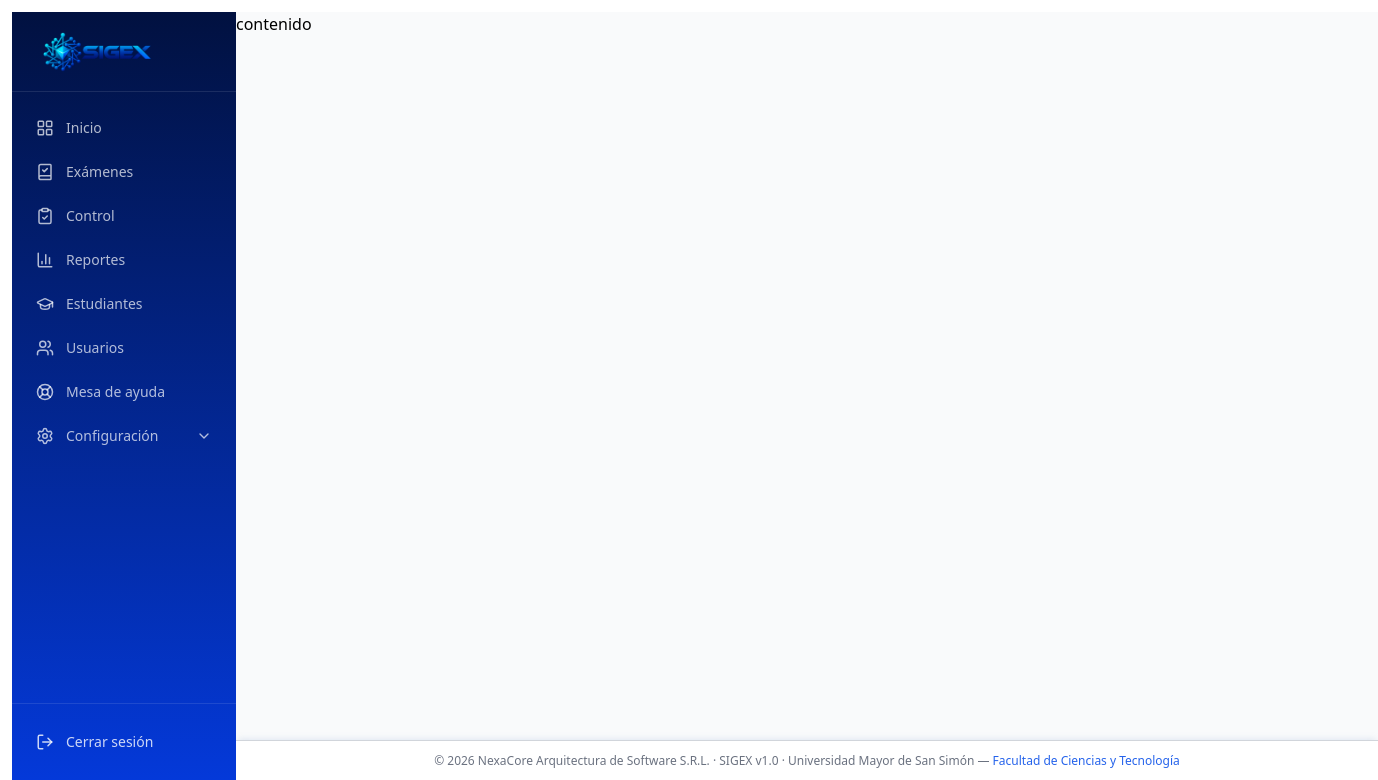
Test: el menú lateral se contrae a solo íconos y lo recuerda
The image size is (1378, 780).
Later steps or results of the test are not shown.
Click the button named "Contraer menú" at (124, 52), box [12, 12, 236, 92]
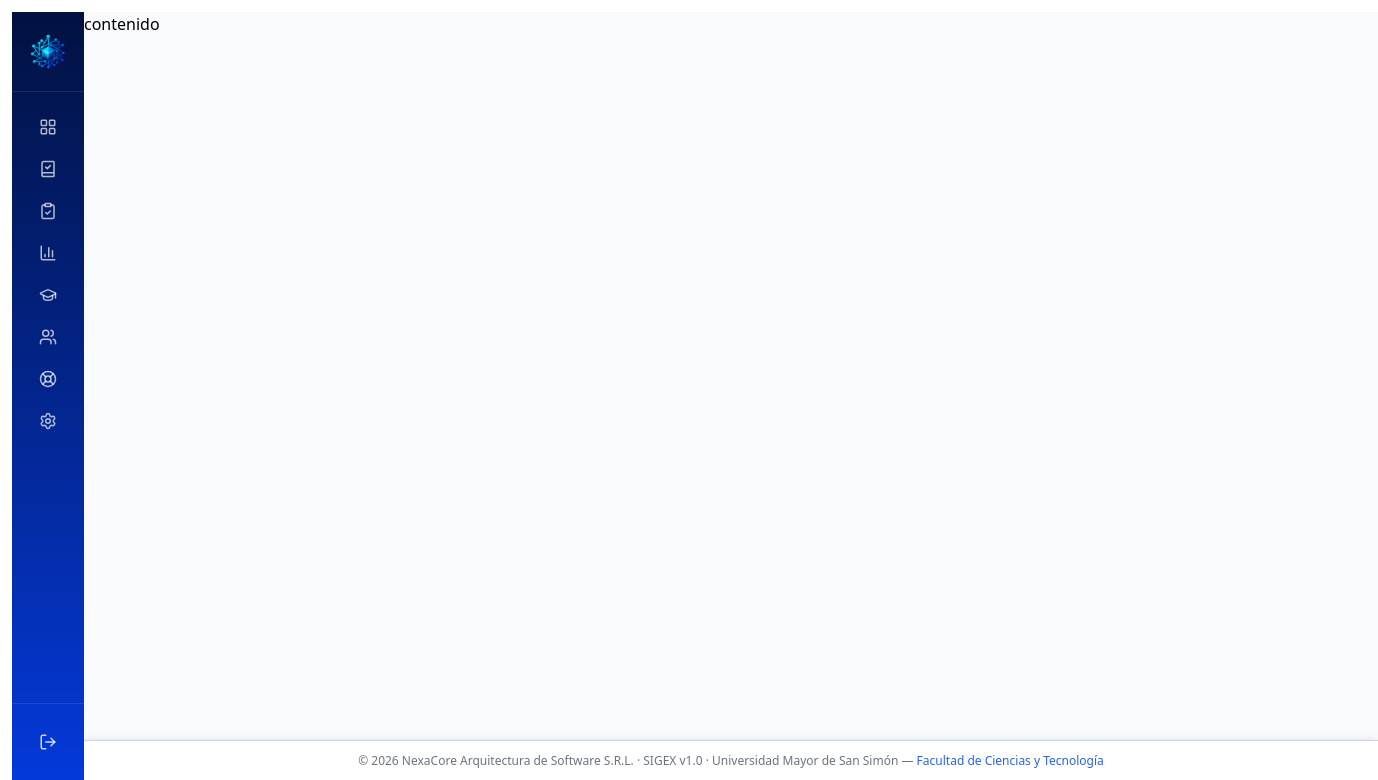
Check: the button named "Expandir menú" is collapsed, box [12, 12, 84, 92]
